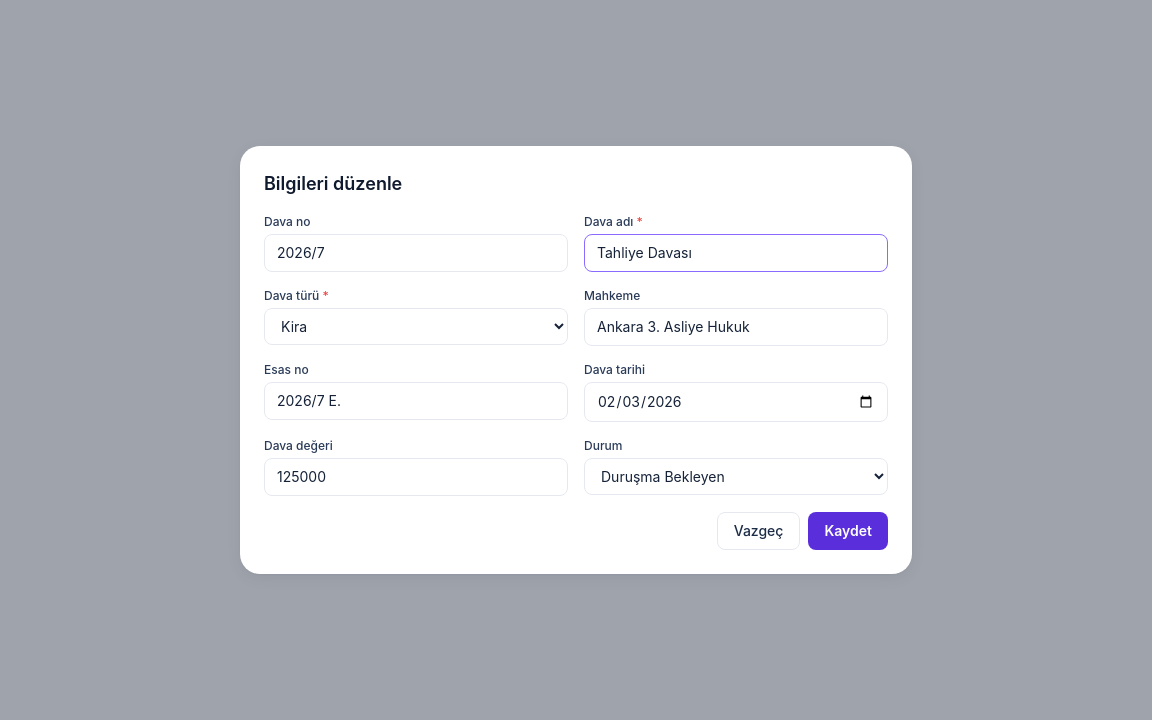
CaseEditModal › shows the server's message in an alert and stays open
Click the button "Kaydet" at (848, 531), box [808, 512, 888, 550]
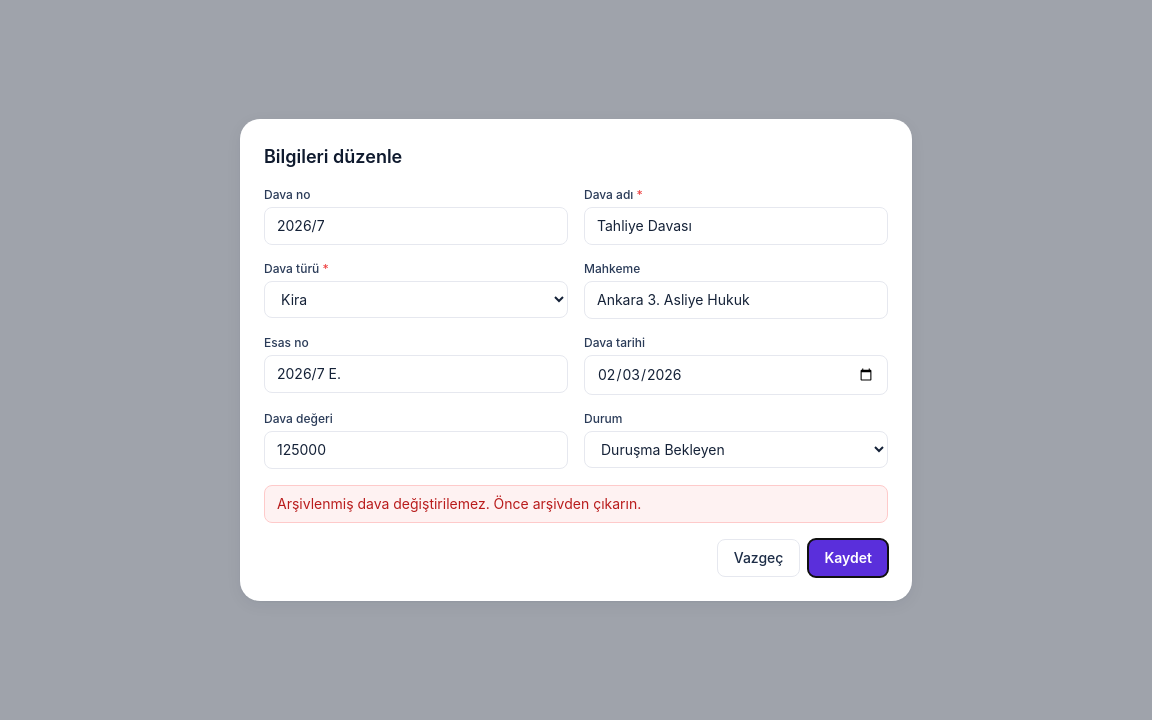
Check: the dialog is shown, box [240, 119, 912, 601]
Check: the message reads "Arşivlenmiş dava değiştirilemez. Önce arşivden çıkarın.", box [277, 495, 641, 512]
